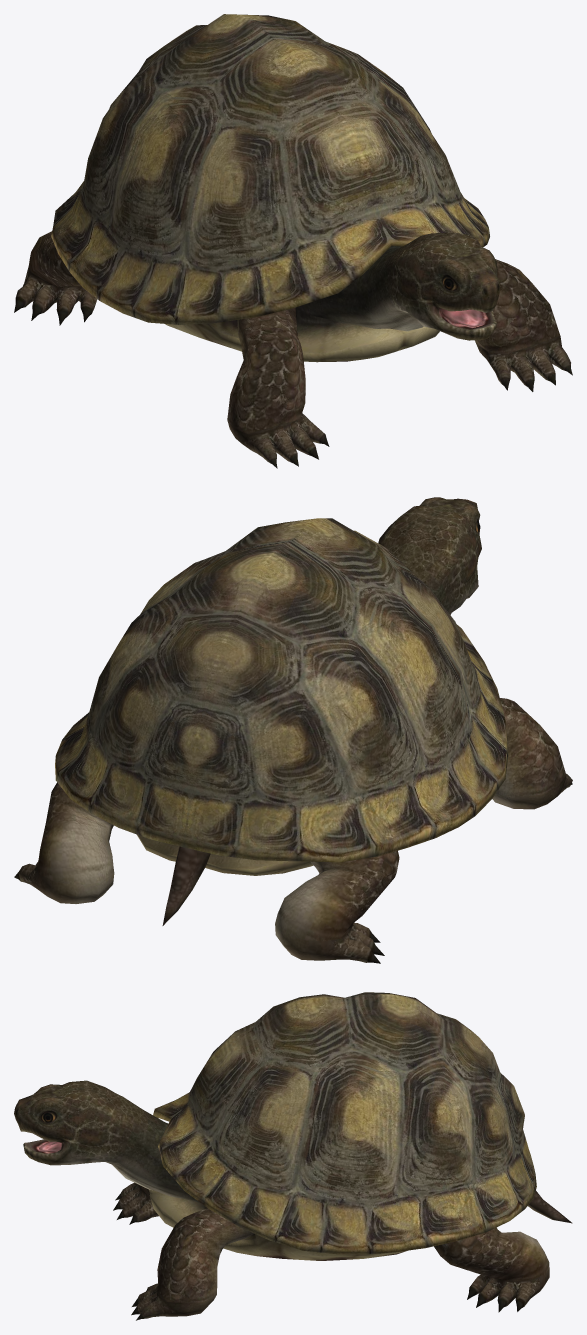
The model's file is kura.glb.
3 renders of one model, top to bottom at view 1: azimuth 30°, elevation 25°; view 2: azimuth 150°, elevation 25°; view 3: azimuth 270°, elevation 25°, orthographic. The views are drawn at different scales.
Parts seen in each view (by area): view 1: U3DMesh; view 2: U3DMesh; view 3: U3DMesh.
Part boxes in pixels (x1,y1,x2,y2): U3DMesh: (14, 14, 572, 468); U3DMesh: (14, 497, 572, 963); U3DMesh: (14, 992, 572, 1320).
Bounding box in the file's own units: 2.77 × 2.27 × 4.4.
Materials: 1 (1 with a texture image).
